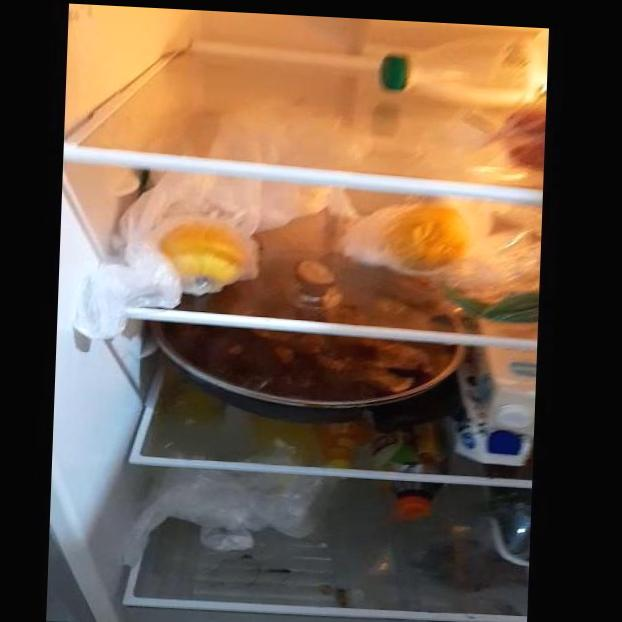lemon: (160, 219, 248, 292), (387, 204, 475, 273)
milk: (456, 345, 534, 462)
